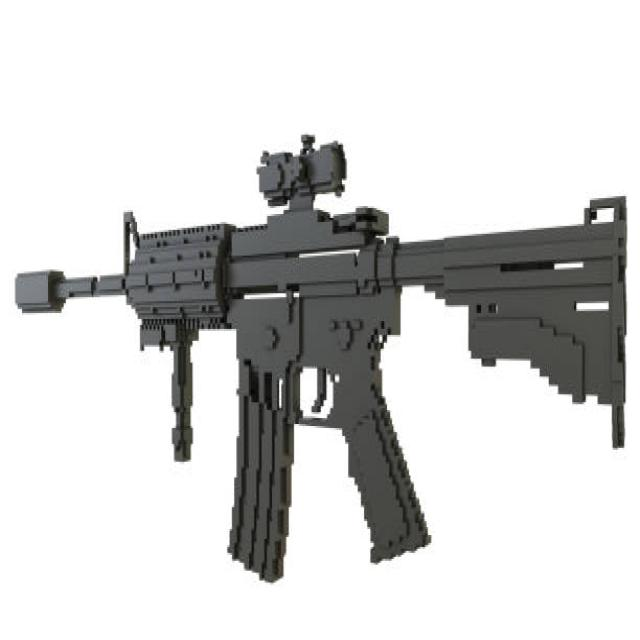rifle: (8, 112, 632, 612)
